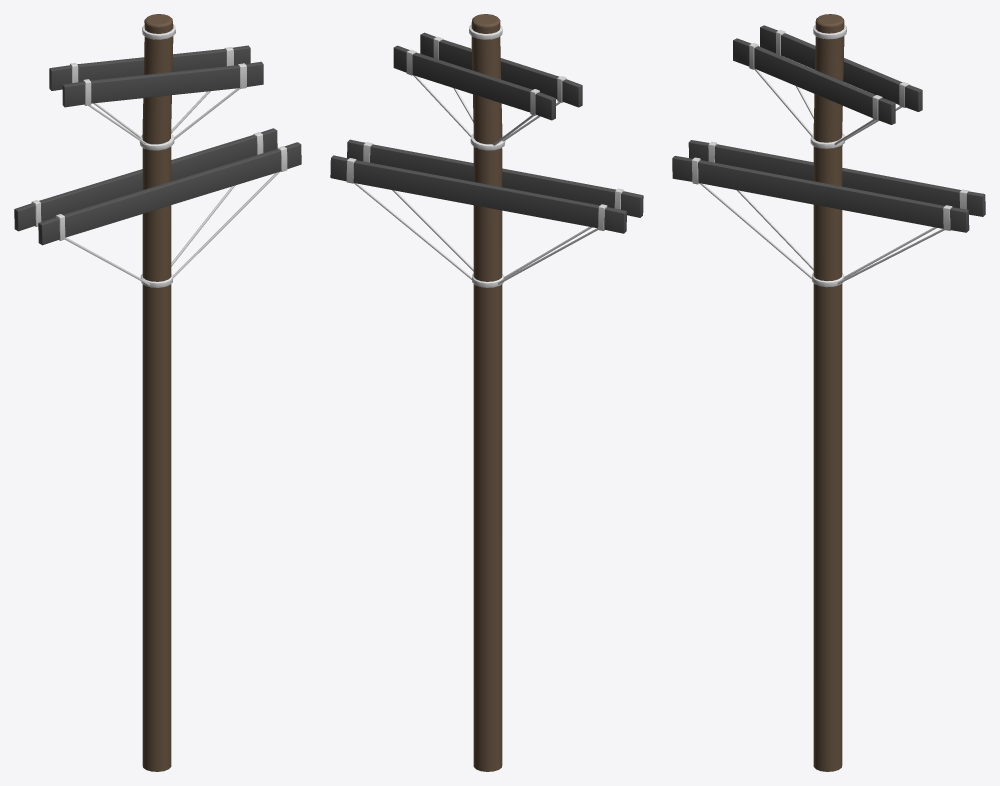
Rendered from Pole-M02A.fbx.
3 views of the same model, side by side, from view 1: azimuth 30°, elevation 25°; view 2: azimuth 150°, elevation 25°; view 3: azimuth 330°, elevation 25° (orthographic).
Parts seen in each view (by area): view 1: Pole-M02A; view 2: Pole-M02A; view 3: Pole-M02A.
Boxes of the visible parts, <box> form: Pole-M02A: <box>14,14,301,771</box>; Pole-M02A: <box>330,14,643,771</box>; Pole-M02A: <box>672,14,985,771</box>.
Size of the model in its own units: 415 by 1050 by 111.
